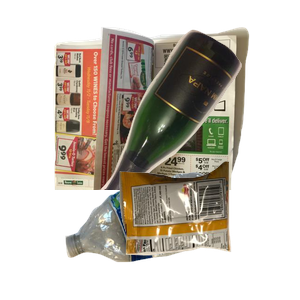glass: (87, 27, 300, 207)
paper: (51, 24, 291, 204)
plastic: (63, 170, 278, 300)
trash: (117, 159, 300, 300)
